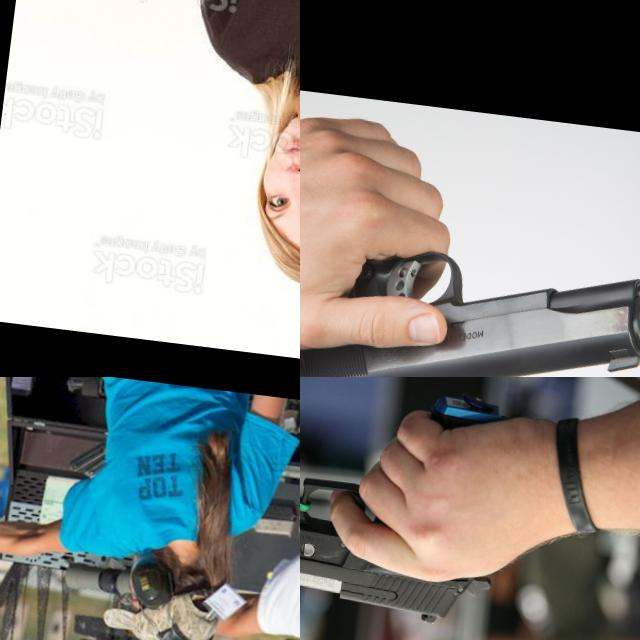handgun: (300, 230, 640, 377), (300, 458, 508, 634), (0, 550, 45, 616)
